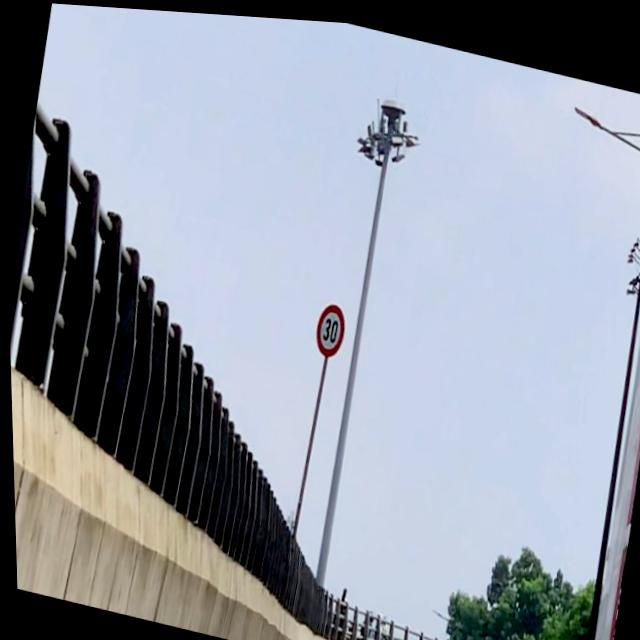Toc do toi da cho phep: (309, 293, 349, 358)
